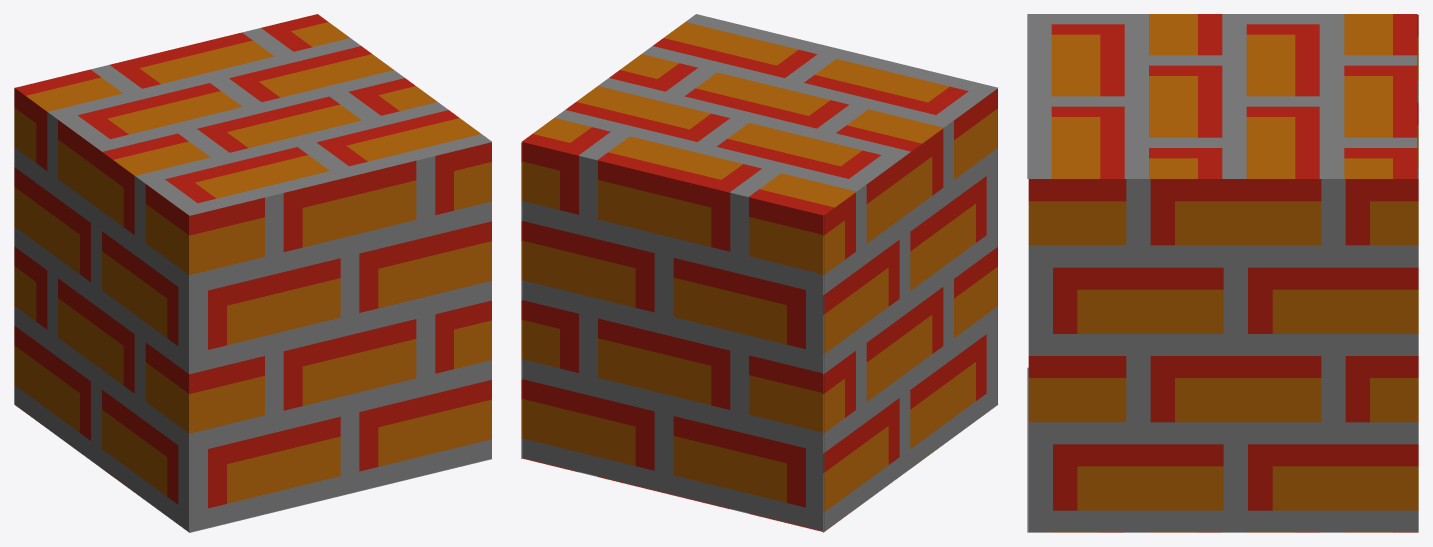
File: brick_wall.gltf
3 renders of one model, left to right at view 1: azimuth 30°, elevation 25°; view 2: azimuth 150°, elevation 25°; view 3: azimuth 270°, elevation 25°, orthographic. The views are drawn at different scales.
Parts seen in each view (by area): view 1: Плоскость.001, Плоскость.005, Плоскость.006; view 2: Плоскость.003, Плоскость.005, Плоскость.006, Плоскость.004, Плоскость.002; view 3: Плоскость.004, Плоскость.006, Плоскость.002.
Part boxes in pixels (left/top/right/bottom): Плоскость.001: left=189, top=142, right=491, bottom=532; Плоскость.005: left=14, top=88, right=188, bottom=531; Плоскость.006: left=15, top=14, right=491, bottom=215; Плоскость.003: left=522, top=142, right=824, bottom=531; Плоскость.005: left=823, top=89, right=997, bottom=532; Плоскость.006: left=522, top=14, right=998, bottom=215; Плоскость.004: left=521, top=142, right=522, bottom=458; Плоскость.002: left=522, top=404, right=998, bottom=531; Плоскость.004: left=1028, top=179, right=1418, bottom=532; Плоскость.006: left=1027, top=14, right=1417, bottom=178; Плоскость.002: left=1027, top=367, right=1416, bottom=532.
Bounding box in the file's own units: 16 × 16.02 × 16.06.
